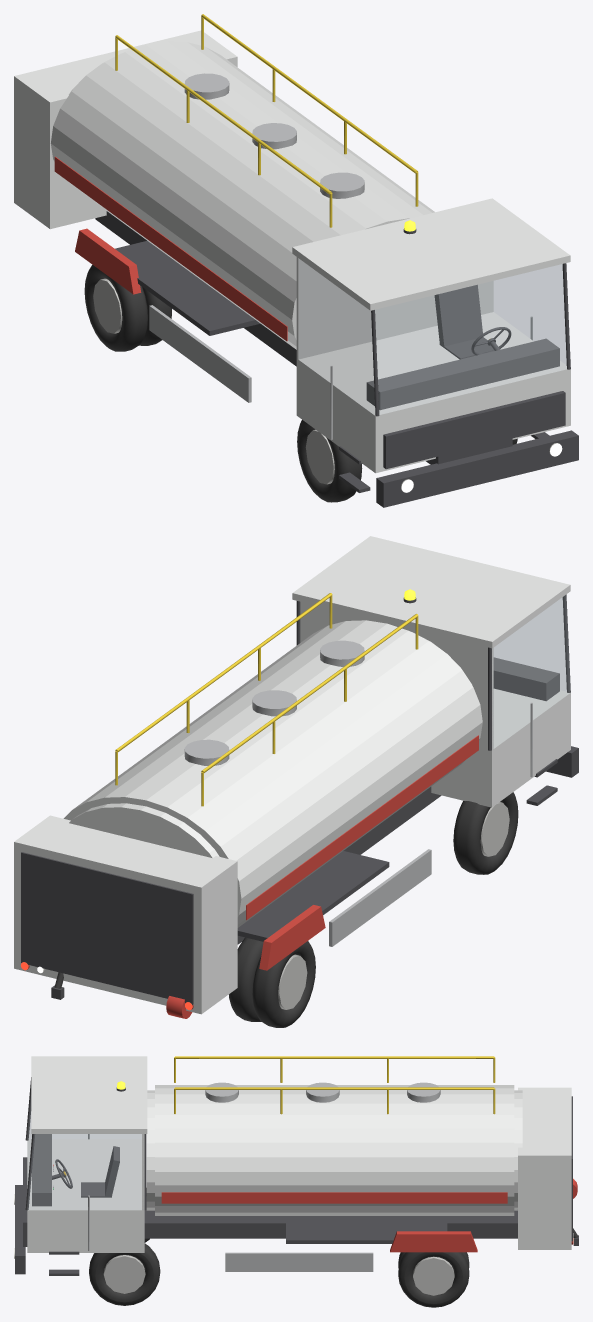
The model's file is FuelTruck.glb.
3 renders of one model, top to bottom at view 1: azimuth 30°, elevation 25°; view 2: azimuth 150°, elevation 25°; view 3: azimuth 270°, elevation 25°, orthographic. The views are drawn at different scales.
Visible parts, largest first — view 1: Body, Wheel_RR, Wheel_FR; view 2: Body, Wheel_RR, Wheel_FR; view 3: Body, Wheel_RL, Wheel_FL.
Boxes of the visible parts, box(x1,y1,x2,y2) form: Body: box(14, 14, 578, 507); Wheel_RR: box(84, 265, 171, 351); Wheel_FR: box(297, 420, 362, 502); Body: box(14, 536, 578, 1018); Wheel_RR: box(229, 937, 315, 1027); Wheel_FR: box(453, 792, 518, 874); Body: box(14, 1056, 578, 1275); Wheel_RL: box(398, 1252, 469, 1307); Wheel_FL: box(89, 1243, 160, 1305).
Size of what is drawn, in the model's own units: 2.59 by 3.34 by 8.41.
